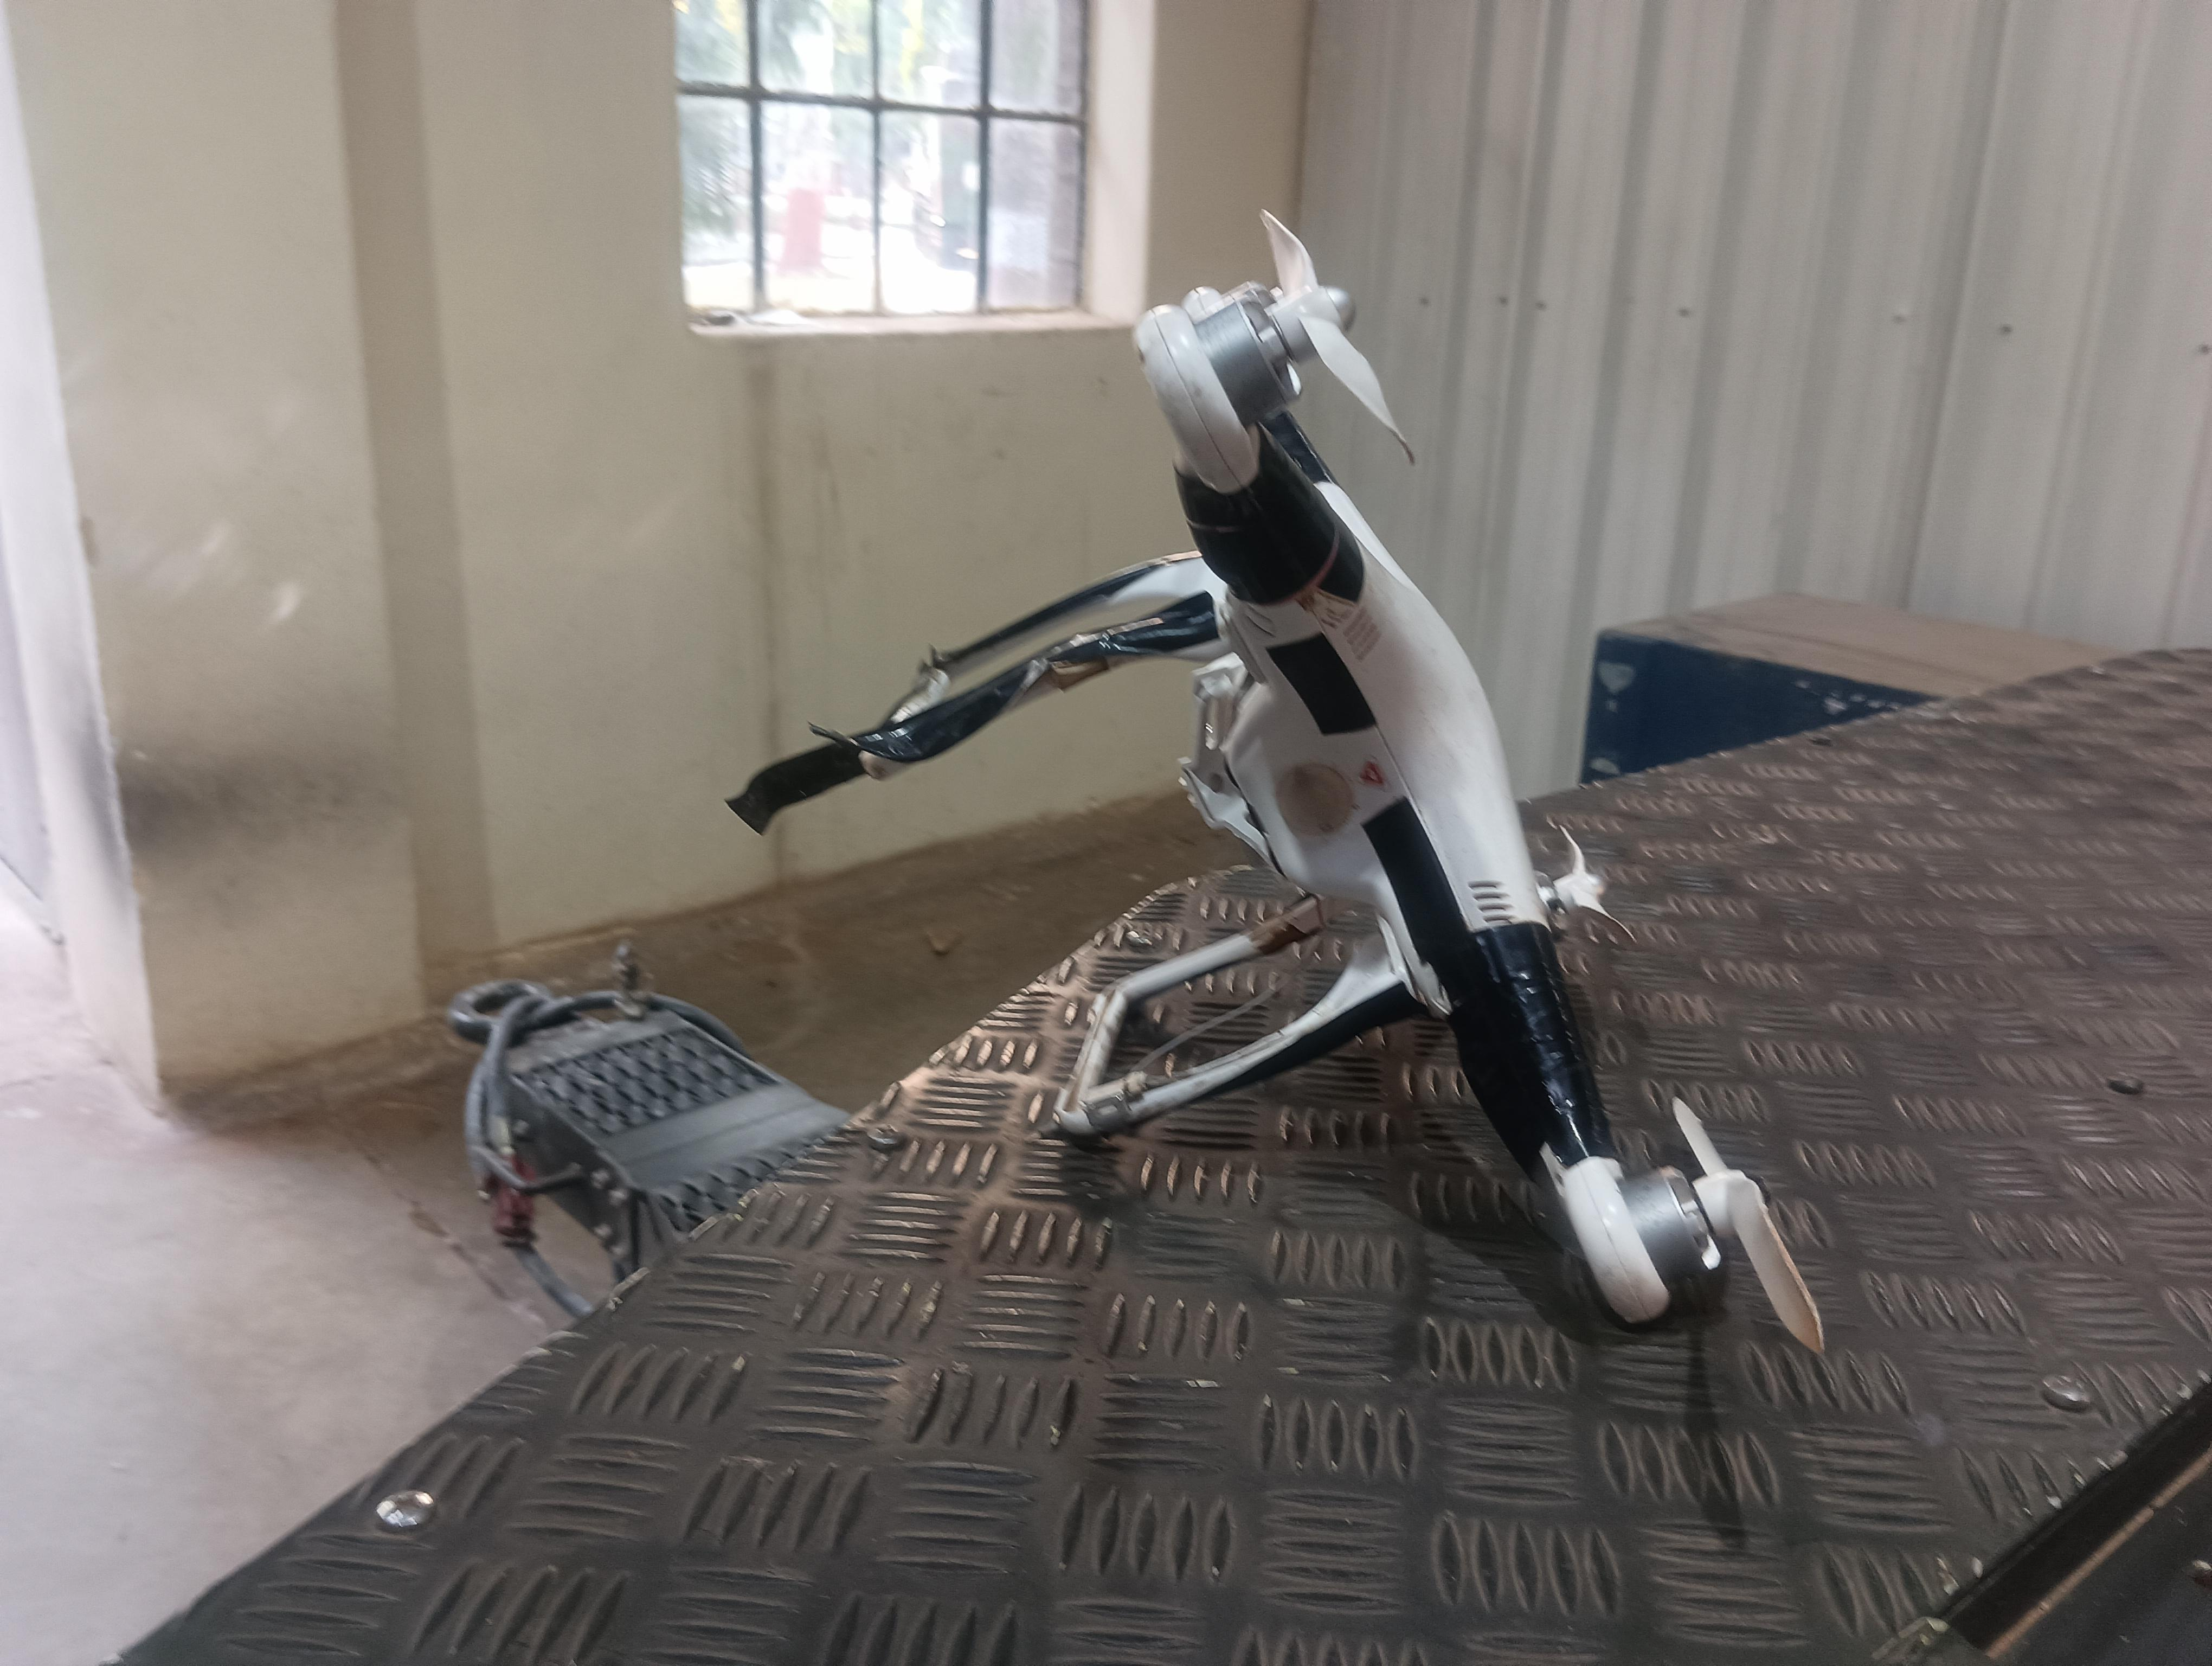drone: (815, 291, 1787, 1328)
